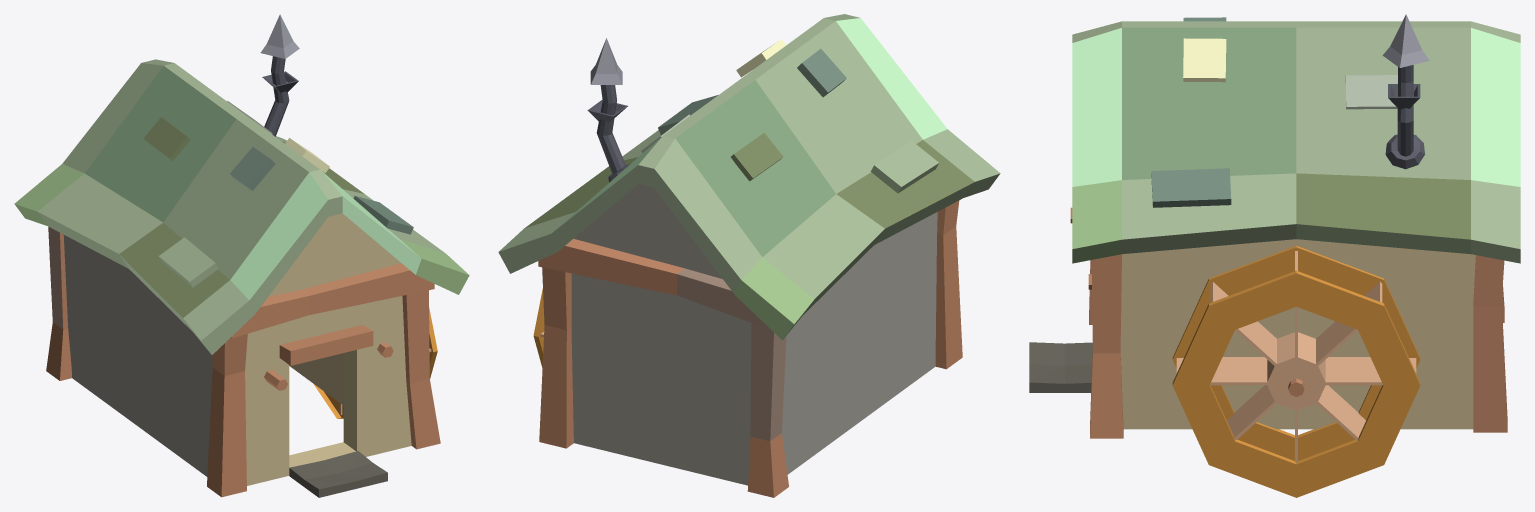
The model's file is Cottage_4.fbx.
3 renders of one model, left to right at view 1: azimuth 30°, elevation 25°; view 2: azimuth 150°, elevation 25°; view 3: azimuth 270°, elevation 25°, orthographic. The views are drawn at different scales.
Parts seen in each view (by area): view 1: Cottage_4; view 2: Cottage_4; view 3: Cottage_4.
Part boxes in pixels (x1,y1,x2,y2): Cottage_4: [14, 14, 469, 497]; Cottage_4: [498, 14, 1000, 497]; Cottage_4: [1029, 14, 1520, 497].
Bounding box in the file's own units: 120 × 150 × 151.
